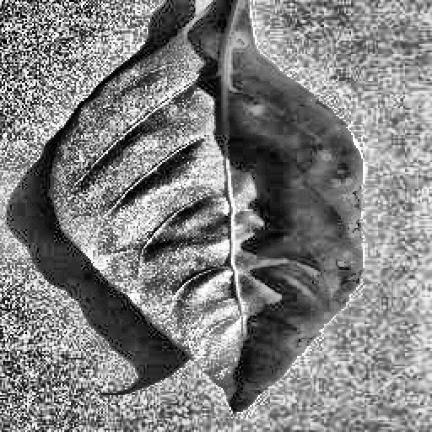leaf: (51, 0, 359, 410)
